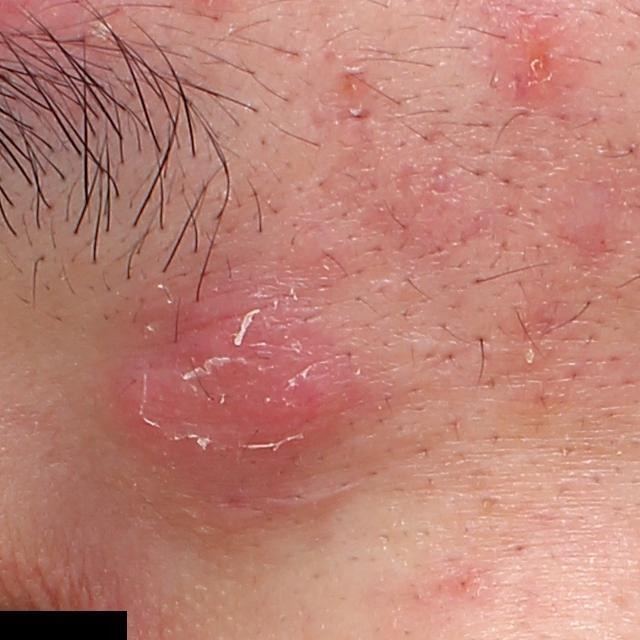nodule: (83, 269, 406, 533)
papule: (493, 11, 579, 99), (333, 58, 376, 99)
